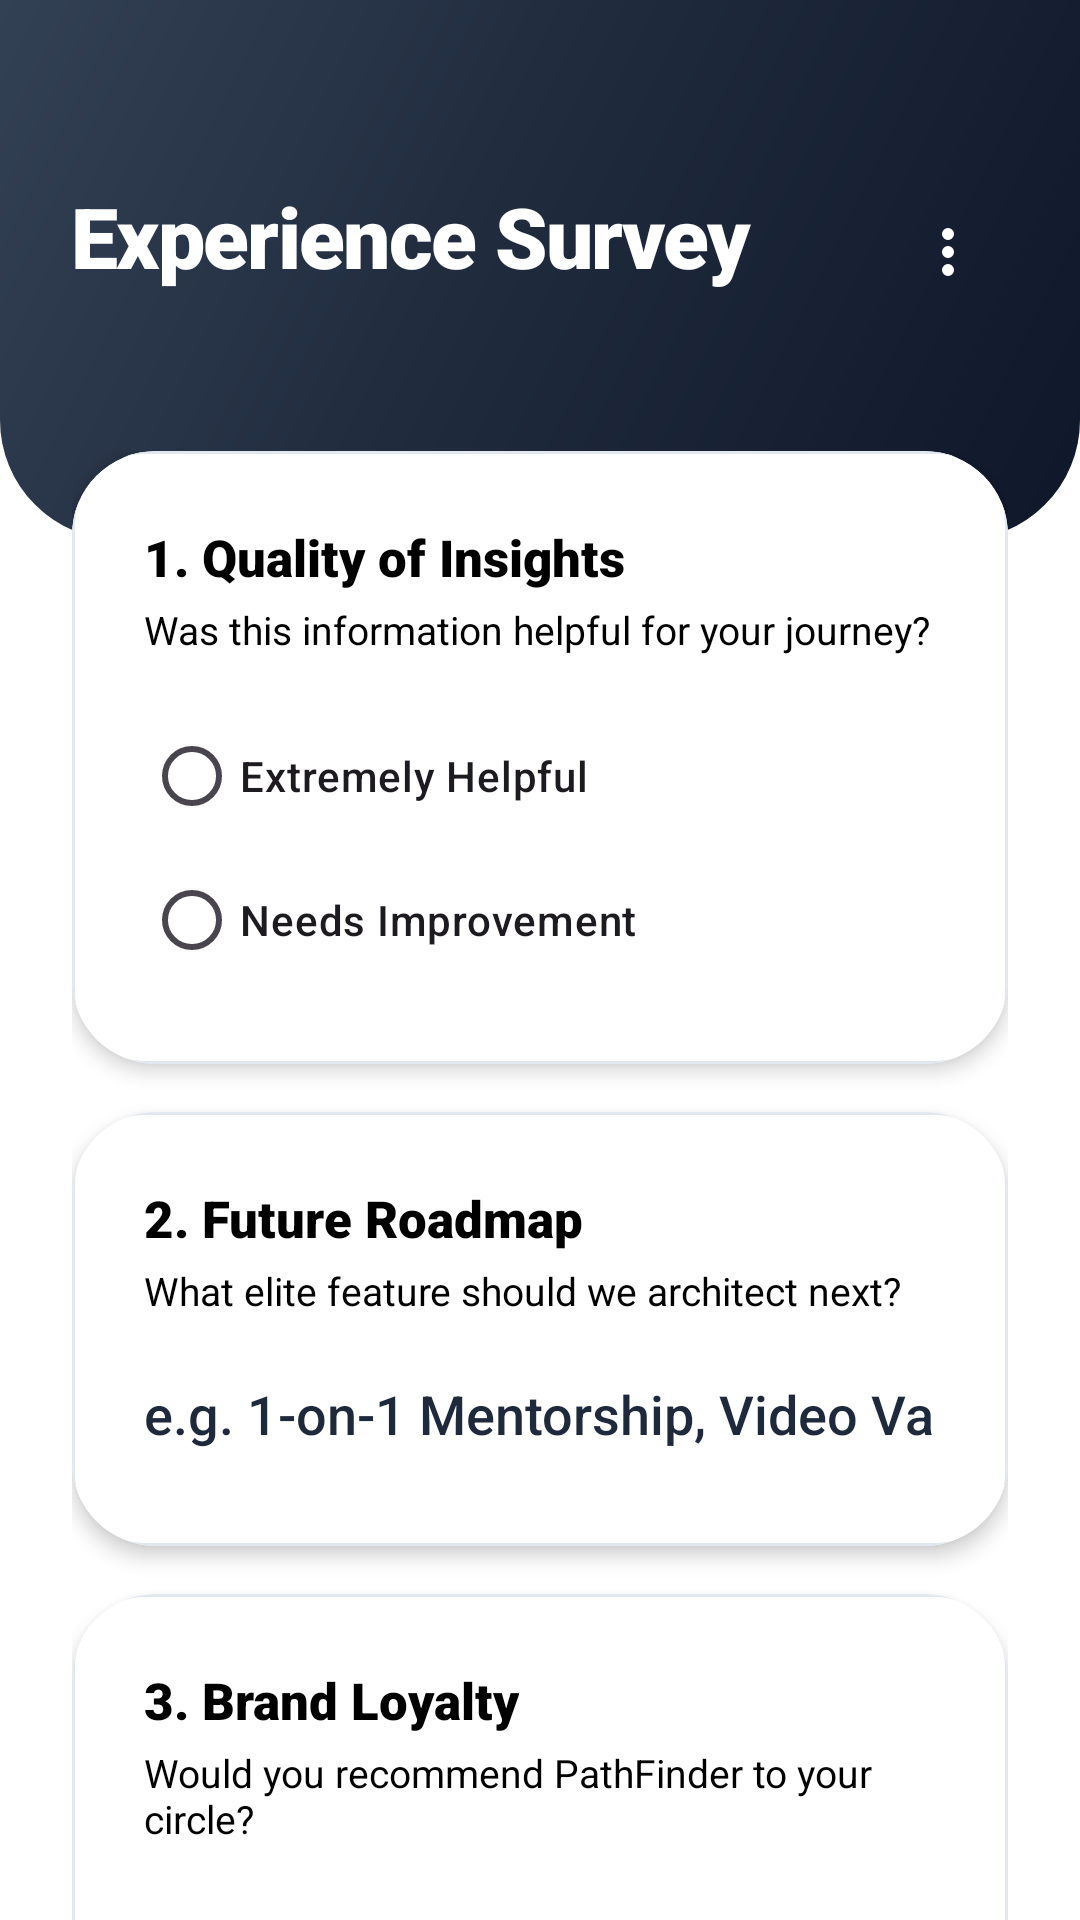

Icon bounding boxes for this 1080px×1920px phone screenshot, format (x1, y1, x2, y2):
Menu: (942, 228, 954, 276)
